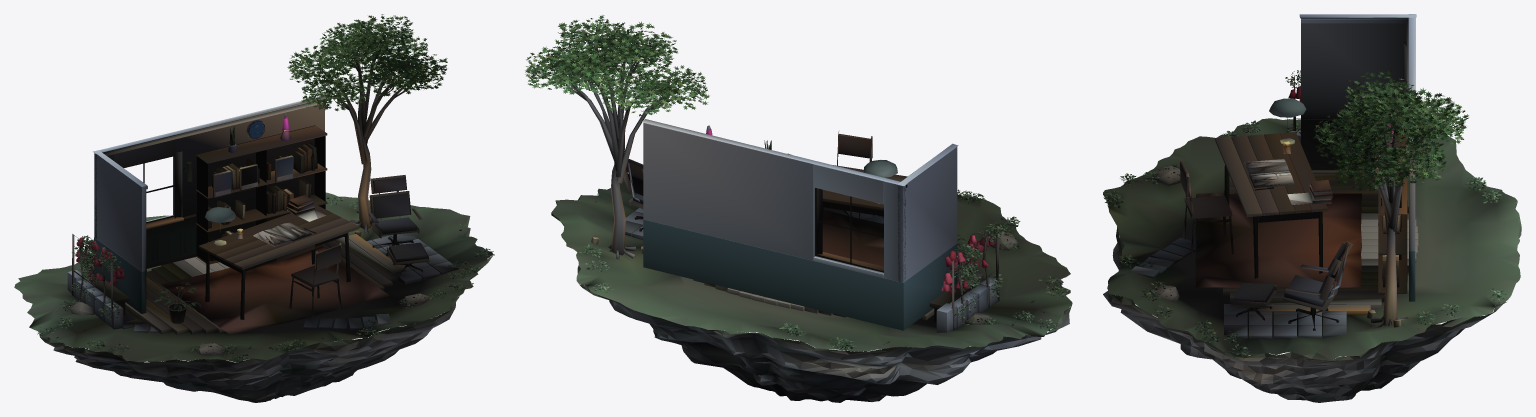
The model's file is flight-writing-ceee3cd4.glb.
3 renders of one model, left to right at view 1: azimuth 30°, elevation 25°; view 2: azimuth 150°, elevation 25°; view 3: azimuth 270°, elevation 25°, orthographic. The views are drawn at different scales.
Visible parts, largest first — view 1: Writing island · flight.001; view 2: Writing island · flight.001; view 3: Writing island · flight.001.
Part boxes in pixels (x1,y1,x2,y2): Writing island · flight.001: [14, 14, 494, 402]; Writing island · flight.001: [525, 15, 1072, 402]; Writing island · flight.001: [1103, 14, 1521, 402].
Size of the model in its own units: 11.76 by 8.12 by 8.15.
